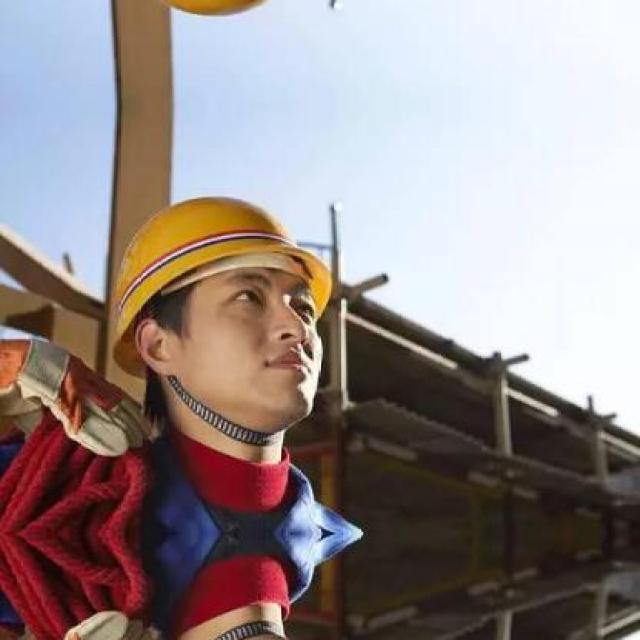helmet: (89, 157, 351, 443)
